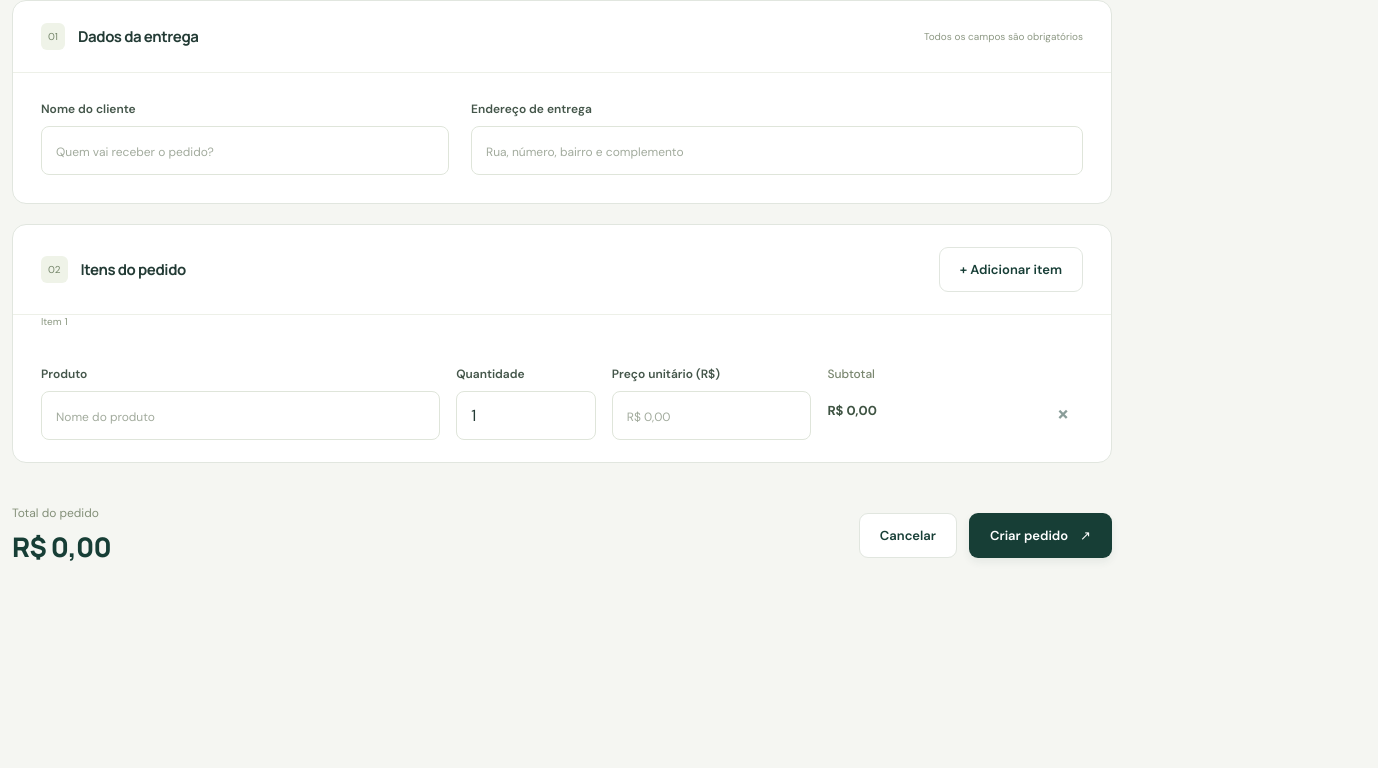
Test: Create order › adds and removes items with stable identity
This screenshot has width=1378, height=768.
In the field labelled "Produto": point(241, 416) [41,391,440,440], type "Primeiro"
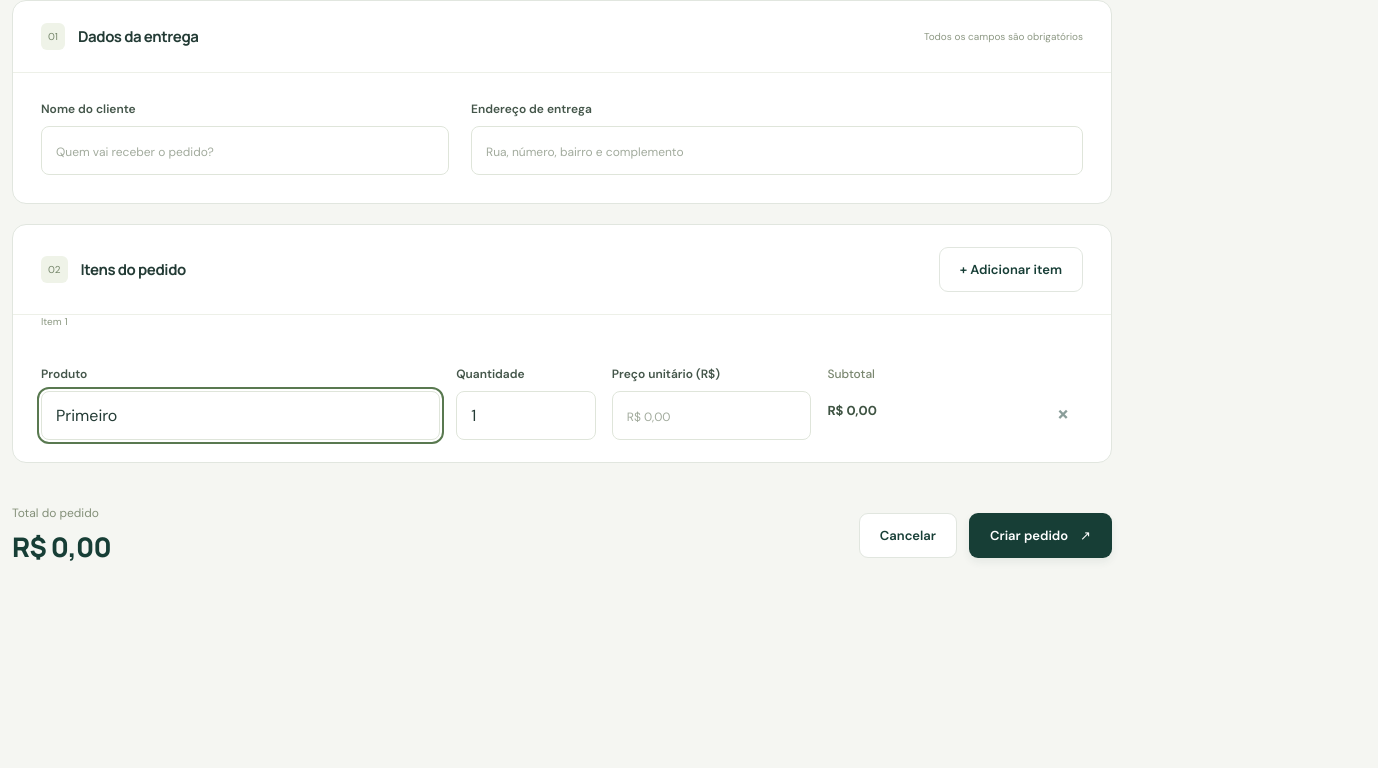
Click the button "+ Adicionar item": point(1011, 270) [939,247,1083,292]
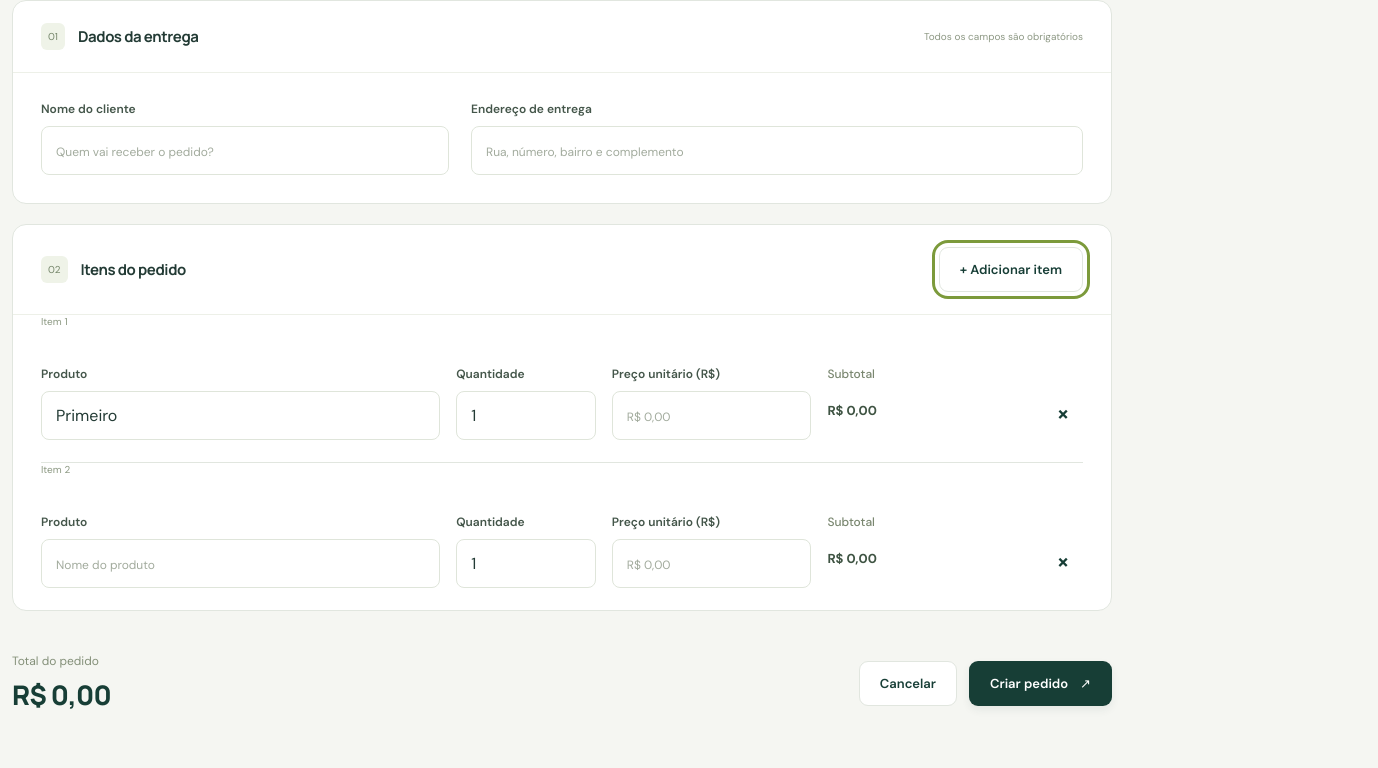
In the 2nd field labelled "Produto": point(241, 564) [41,539,440,588], type "Segundo"
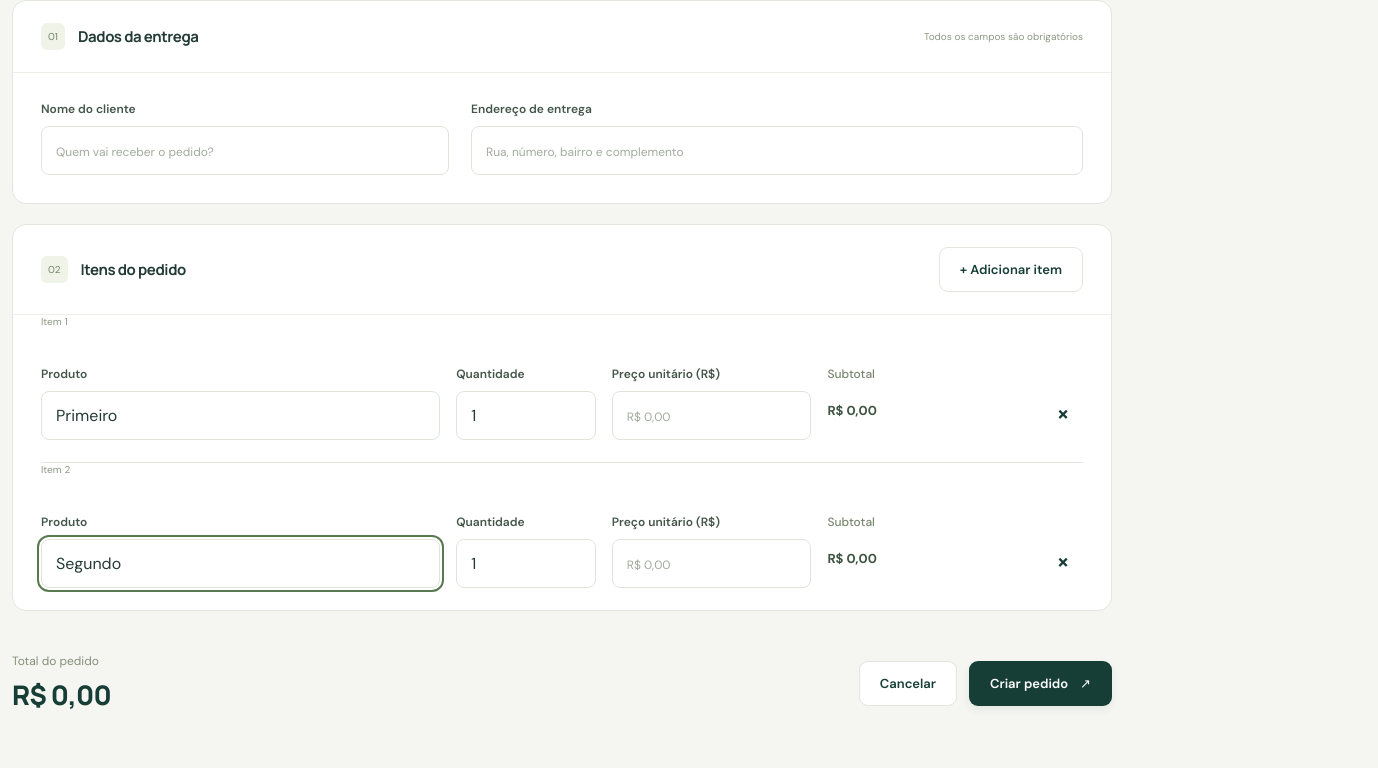
Click the button named "Remover item 1": point(1063, 413) [1043,389,1083,437]
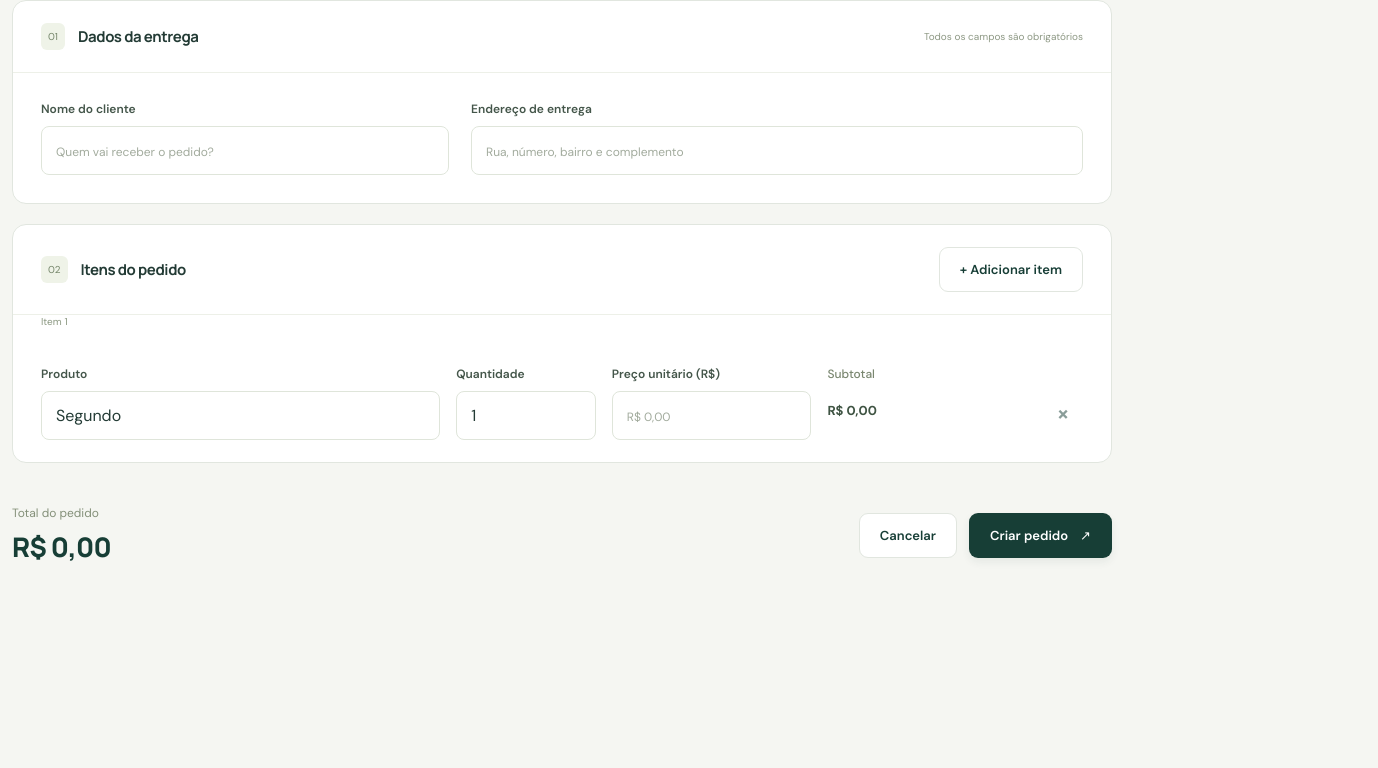
Check: the button named "Remover item 1" is disabled, box [1043,389,1083,437]
